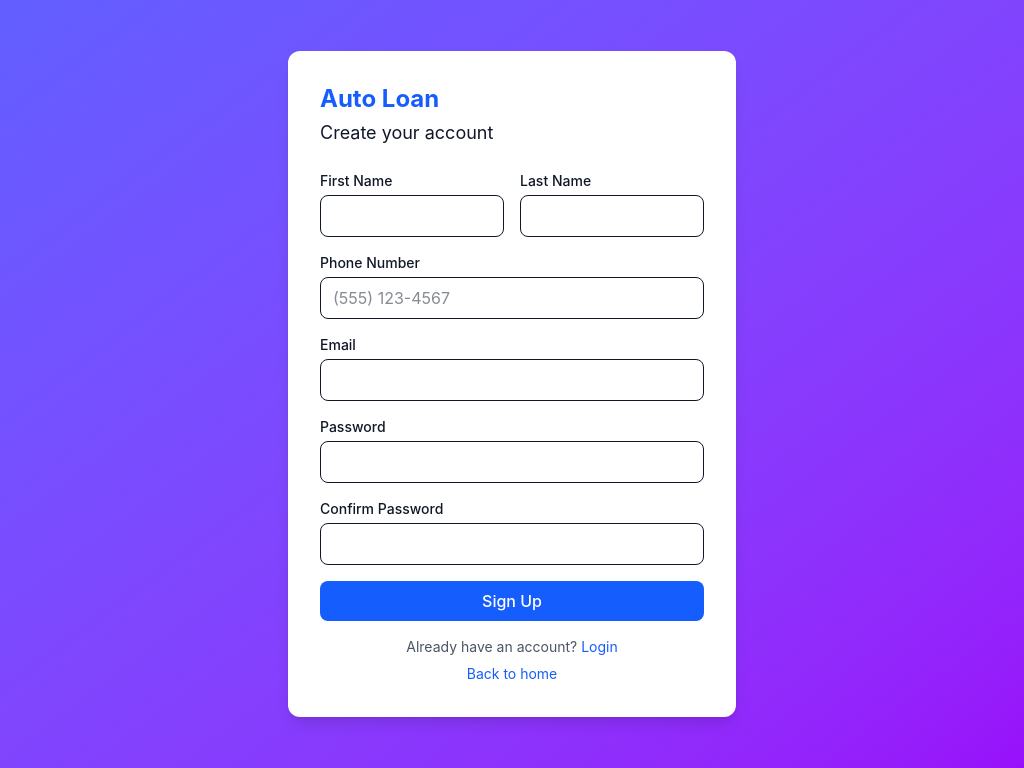
Scenario: SignupPage › shows error when passwords do not match
This screenshot has width=1024, height=768.
Type "John" into the field labelled "First Name" at {"x": 412, "y": 216}, box [320,195,504,237]
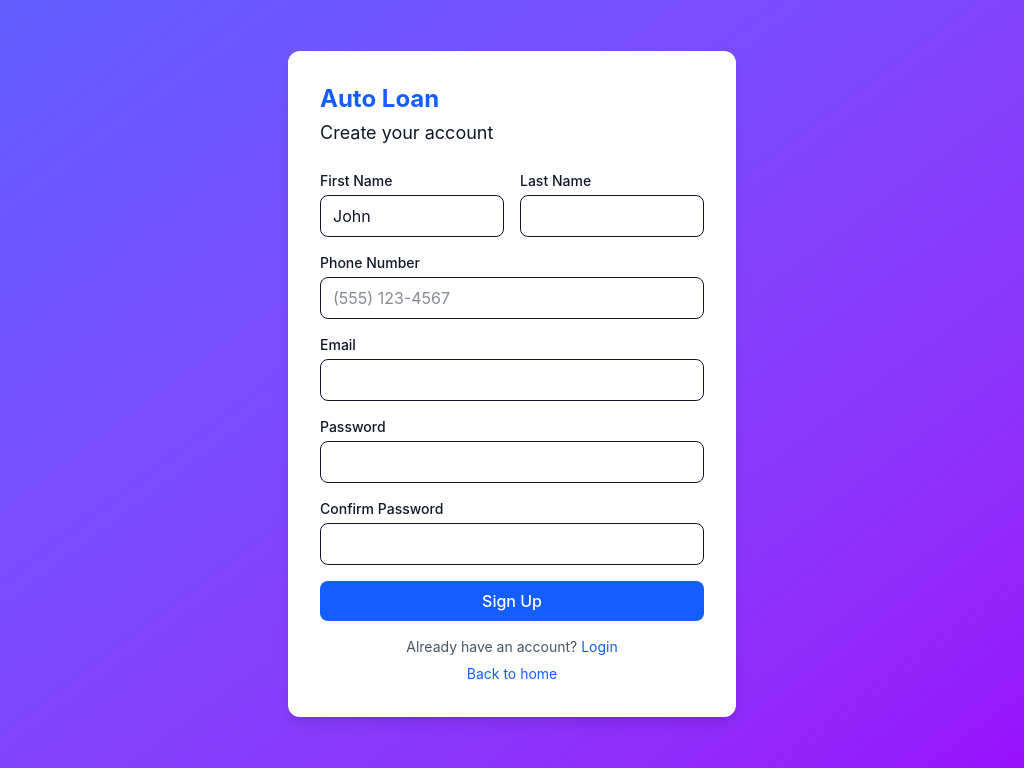
Type "Doe" into the field labelled "Last Name" at {"x": 612, "y": 216}, box [520,195,704,237]
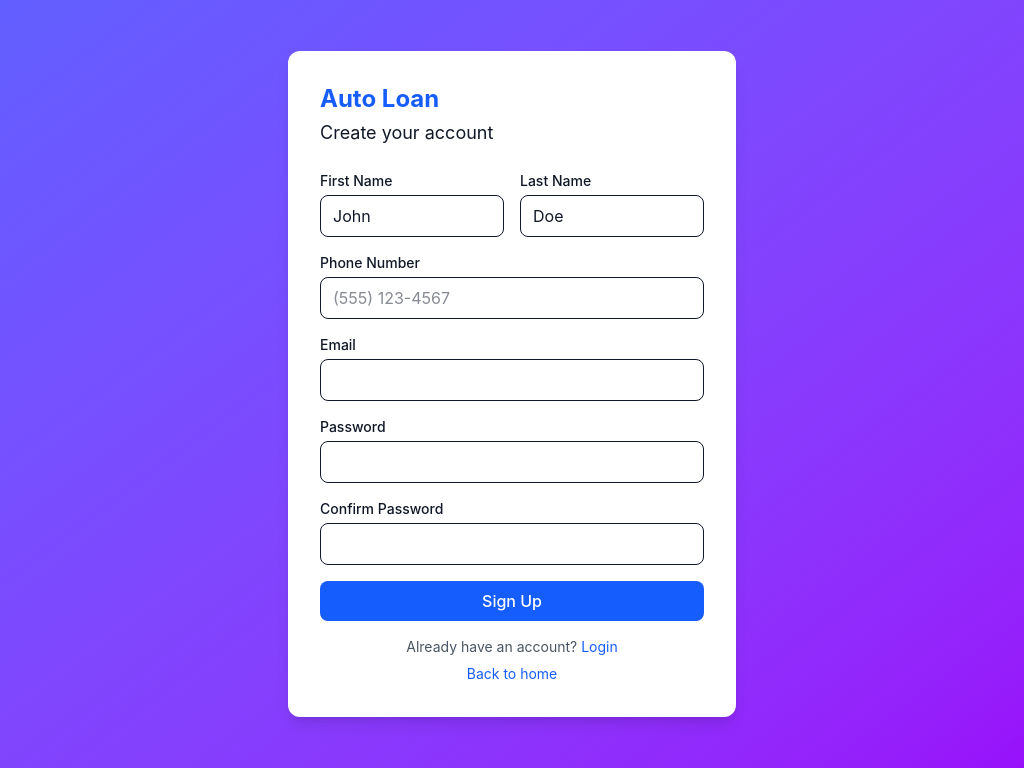
Type "j@d.com" into the field labelled "Email" at {"x": 512, "y": 380}, box [320,359,704,401]
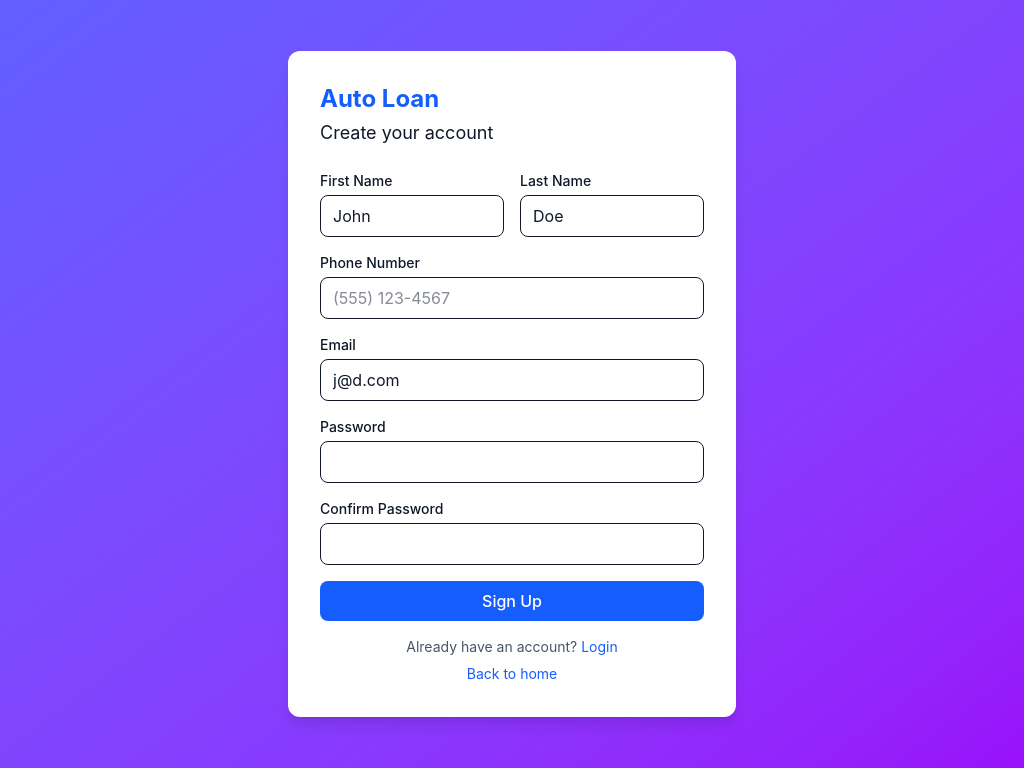
Type "pass1" into the password field labelled "Password" at {"x": 512, "y": 462}, box [320,441,704,483]
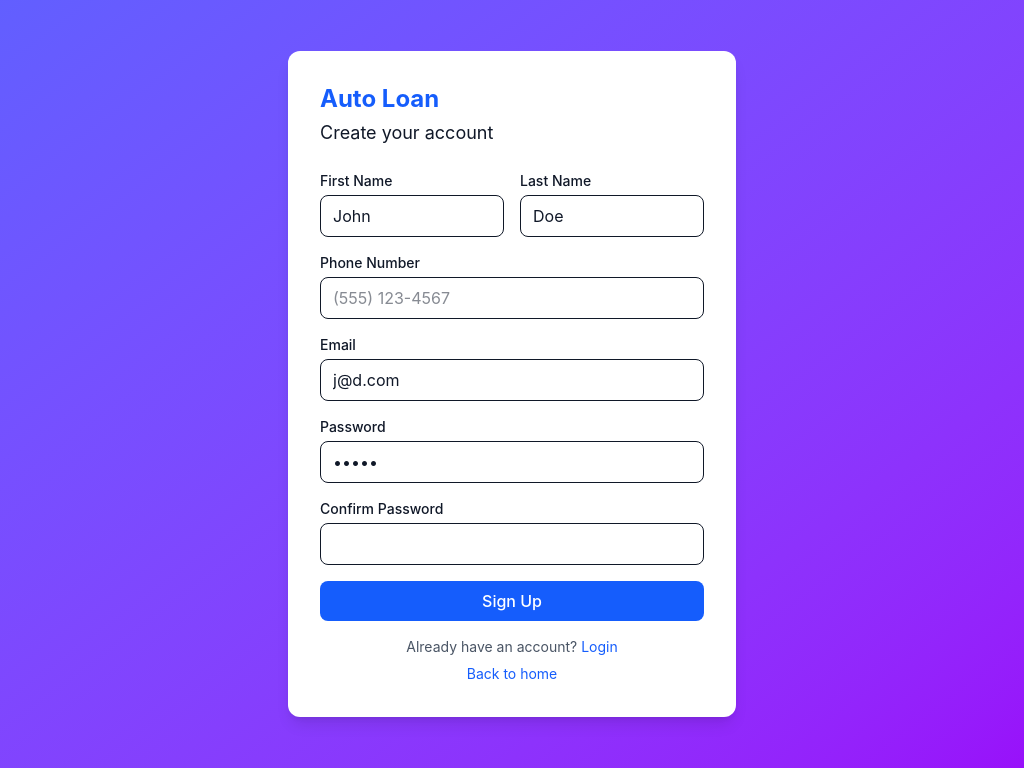
Type "pass2" into the password field labelled "Confirm Password" at {"x": 512, "y": 544}, box [320,523,704,565]
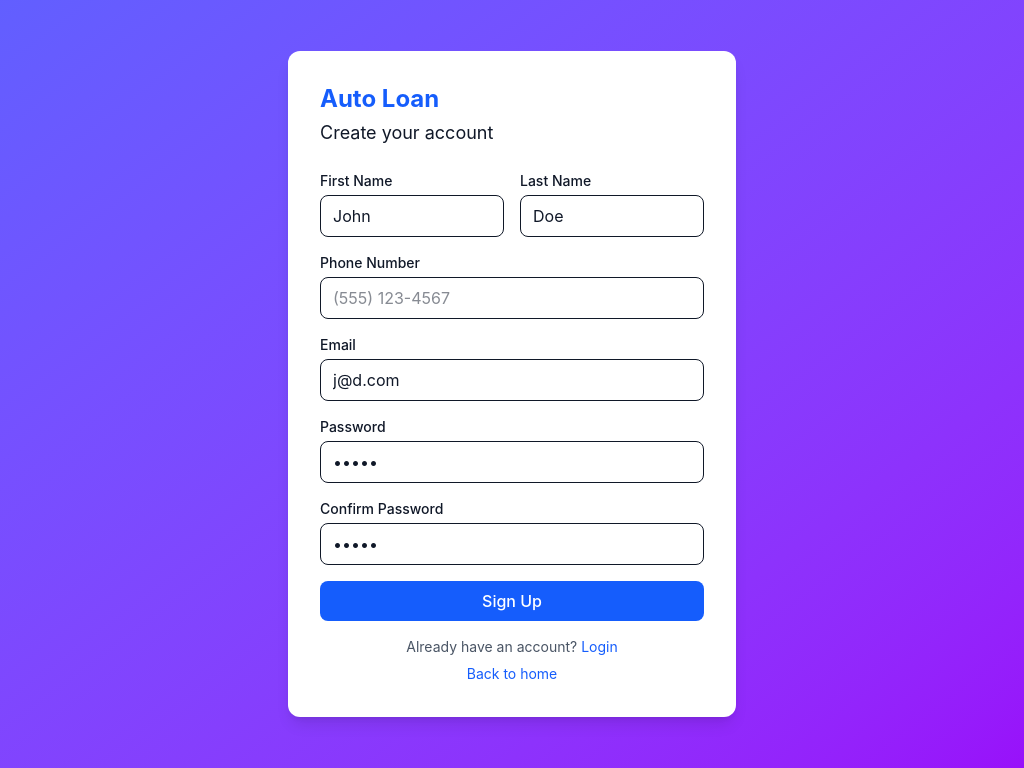
Click the button "Sign Up" at {"x": 512, "y": 601}, box [320,581,704,621]
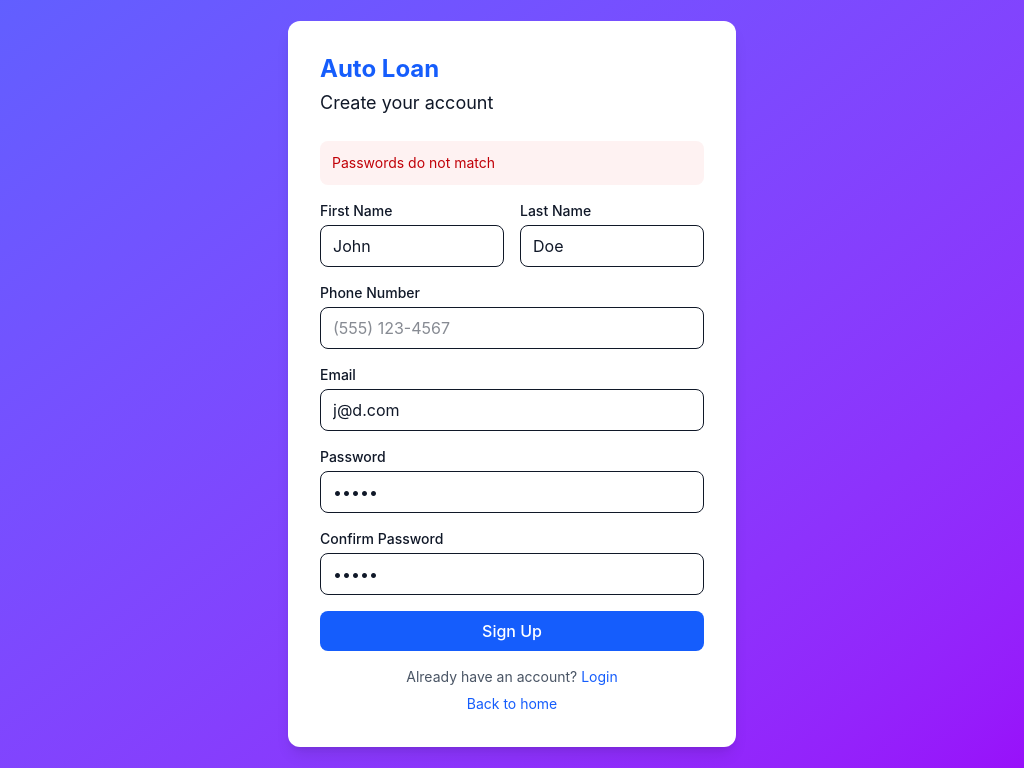
Now the message reads "Passwords do not match", box [332,154,495,171]
